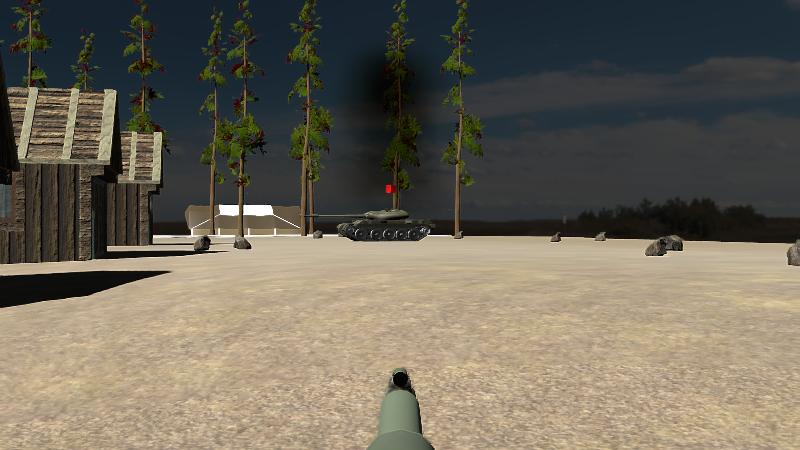House: (1, 86, 120, 264), (113, 131, 166, 246)
Tank: (300, 207, 436, 243)
